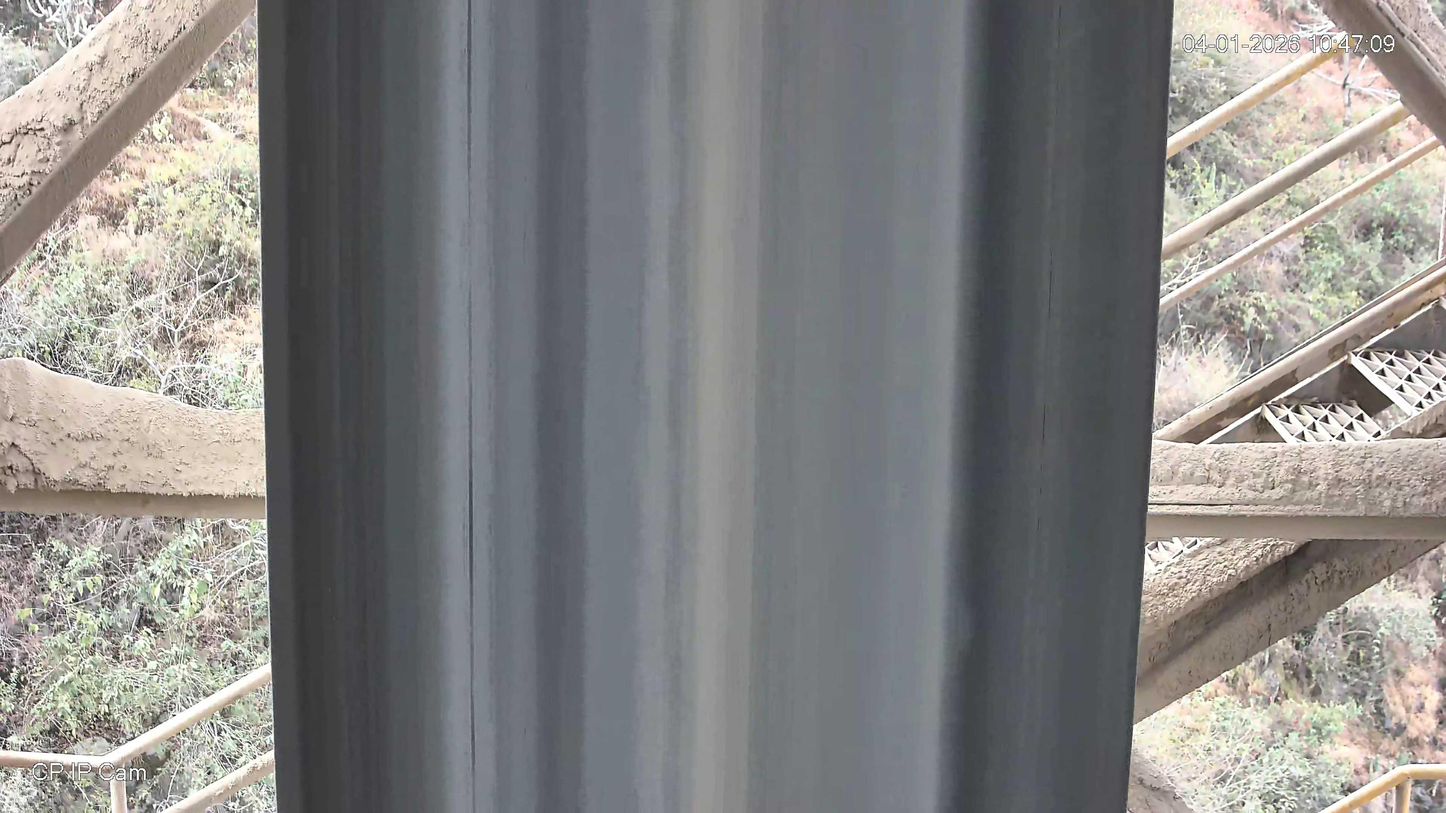belt_roi: (259, 0, 1175, 813)
